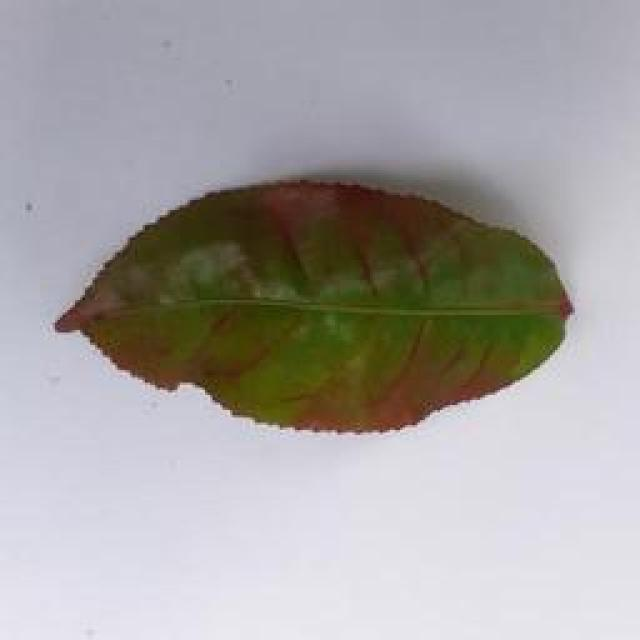Red Leaf Spot: (0, 158, 588, 443)
